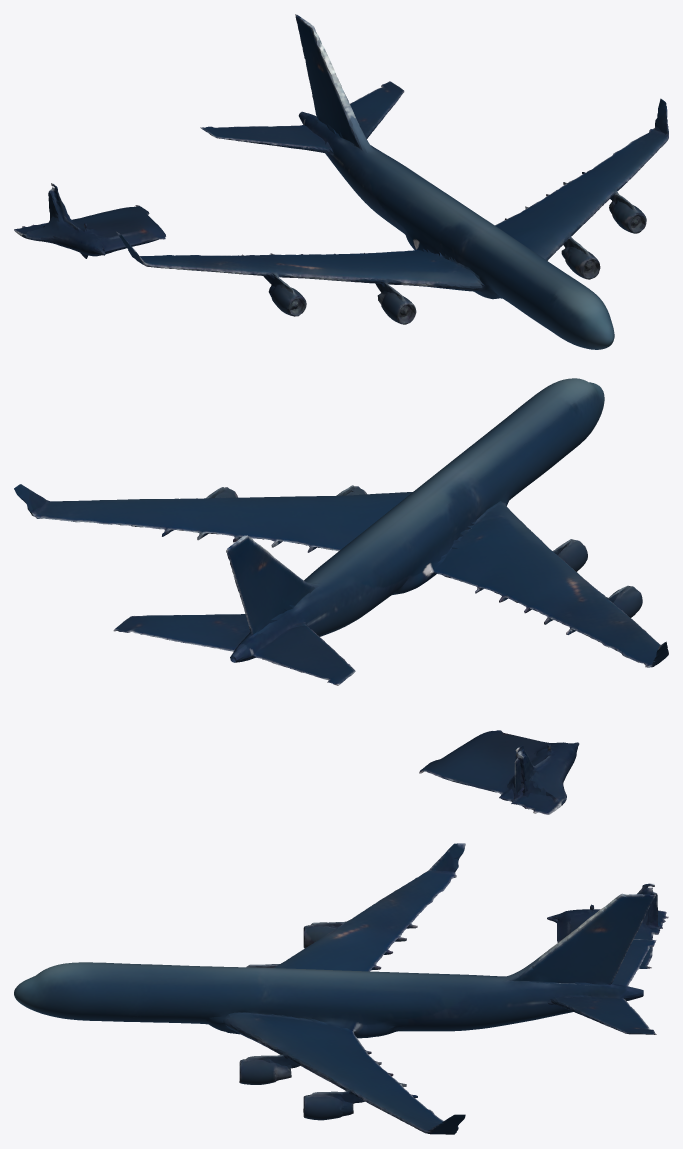
Rendered from KC-46A_Pegasus_AI_Rodin.glb.
3 renders of one model, top to bottom at view 1: azimuth 30°, elevation 25°; view 2: azimuth 150°, elevation 25°; view 3: azimuth 270°, elevation 25°, orthographic. The views are drawn at different scales.
Visible parts, largest first — view 1: model; view 2: model; view 3: model.
Part boxes in pixels (x1,y1,x2,y2): model: (14,14,668,349); model: (14,378,668,814); model: (14,843,668,1134).
Bounding box in the file's own units: 1.87 × 0.52 × 1.89.
Materials: 1 (1 with a texture image).
